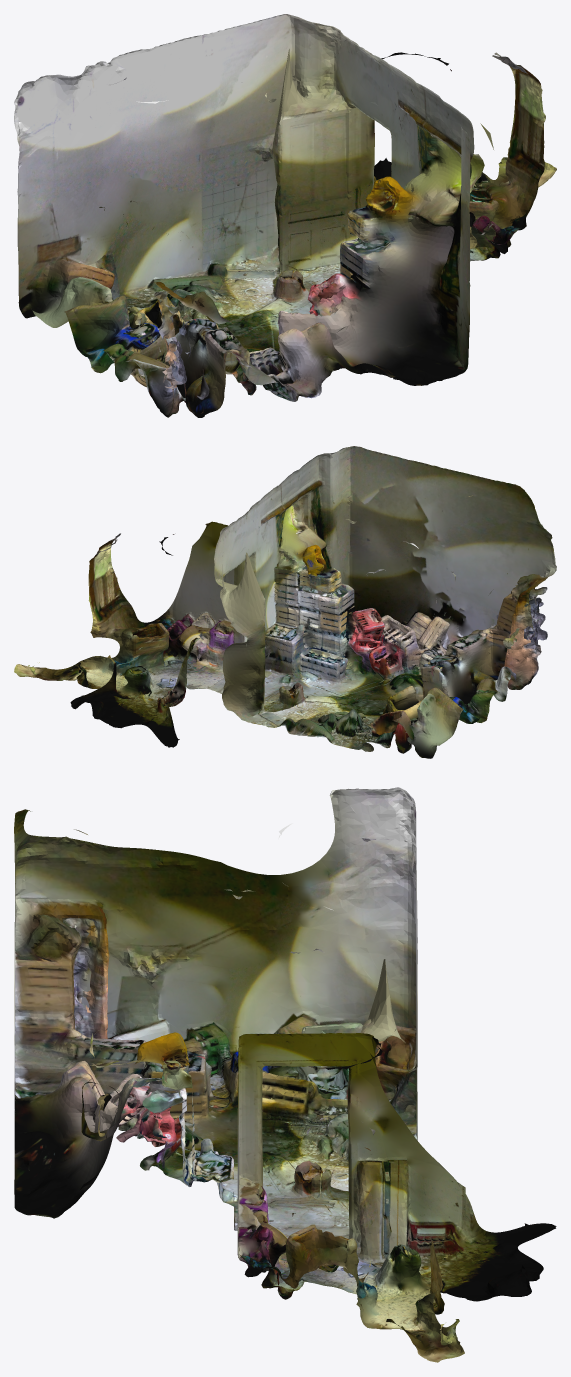
The picture shows the model from 3 angles, top to bottom: view 1: azimuth 30°, elevation 25°; view 2: azimuth 150°, elevation 25°; view 3: azimuth 270°, elevation 25°; orthographic projection. The views are drawn at different scales.
Bounding box in the file's own units: 7.54 × 3.19 × 5.55.
2 materials, 2 textured.
